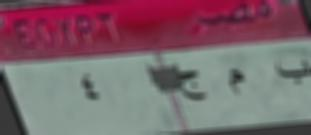4: (78, 69, 102, 105)
baa: (271, 55, 311, 88)
jeem: (175, 67, 210, 107)
meem: (221, 65, 248, 97)
